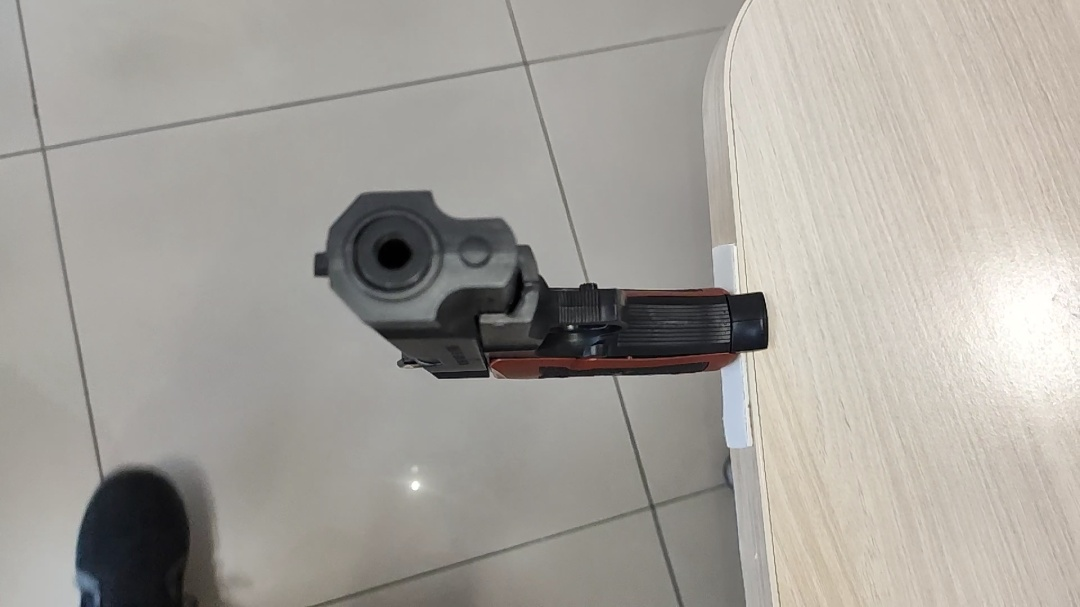gun: (606, 239, 651, 262)
